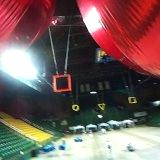Orange_Square_GShape: (53, 74, 71, 92)
Yellow_Circle_GShape: (72, 104, 80, 111)
Yellow_Square_GShape: (128, 96, 137, 104)
Yellow_Triangle_Gshape: (98, 103, 106, 110)
